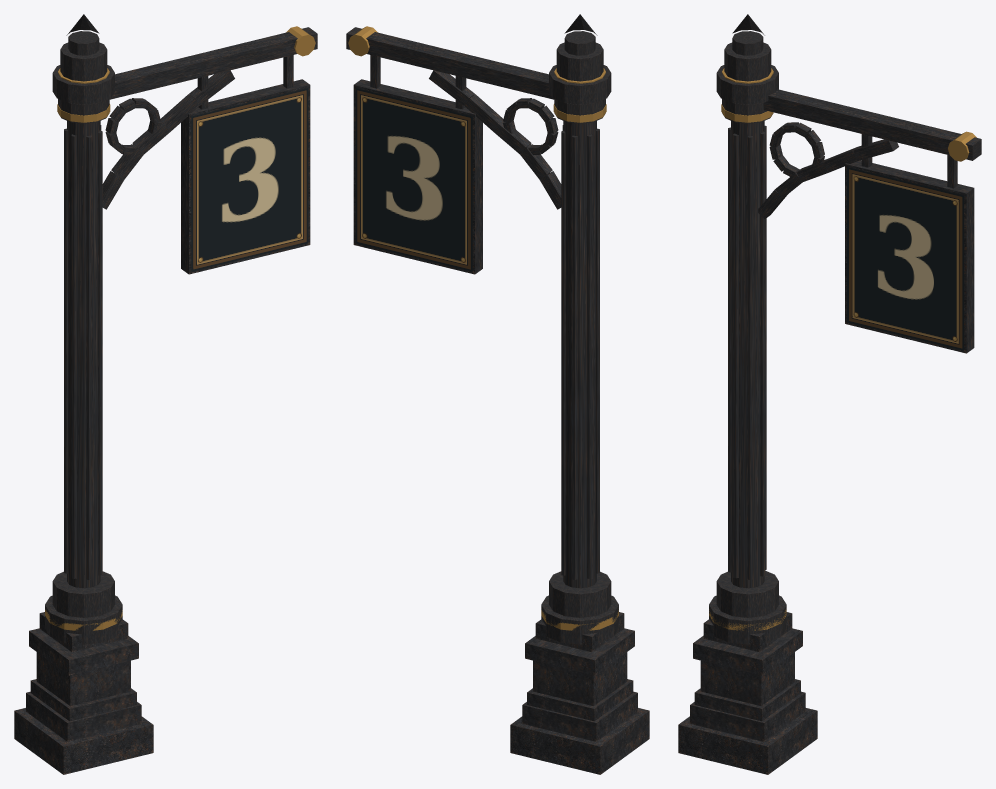
File: platform_sign_3.glb
3 renders of one model, left to right at view 1: azimuth 30°, elevation 25°; view 2: azimuth 150°, elevation 25°; view 3: azimuth 330°, elevation 25°, orthographic.
Parts seen in each view (by area): view 1: platform_sign_3_ground_pivot_y_up; view 2: platform_sign_3_ground_pivot_y_up; view 3: platform_sign_3_ground_pivot_y_up.
Boxes of the visible parts, <box> form: platform_sign_3_ground_pivot_y_up: <box>14,14,317,774</box>; platform_sign_3_ground_pivot_y_up: <box>346,14,649,774</box>; platform_sign_3_ground_pivot_y_up: <box>678,14,981,774</box>.
Bounding box in the file's own units: 1.22 × 3.11 × 0.38.
Materials: 3 (3 with a texture image).
